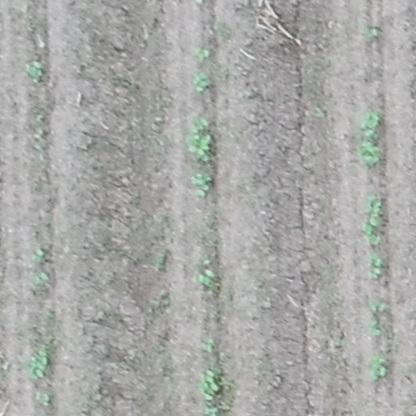vc: (364, 195, 385, 246), (27, 344, 50, 380), (198, 368, 221, 403), (186, 135, 215, 162), (367, 355, 394, 382), (368, 299, 388, 335), (359, 140, 383, 169), (358, 110, 382, 138), (23, 57, 45, 87), (191, 172, 214, 199), (368, 253, 386, 283), (192, 72, 212, 92), (189, 117, 211, 132), (34, 391, 53, 407), (199, 269, 215, 287), (201, 337, 218, 353), (33, 271, 50, 286), (194, 46, 210, 61), (31, 246, 46, 262)
